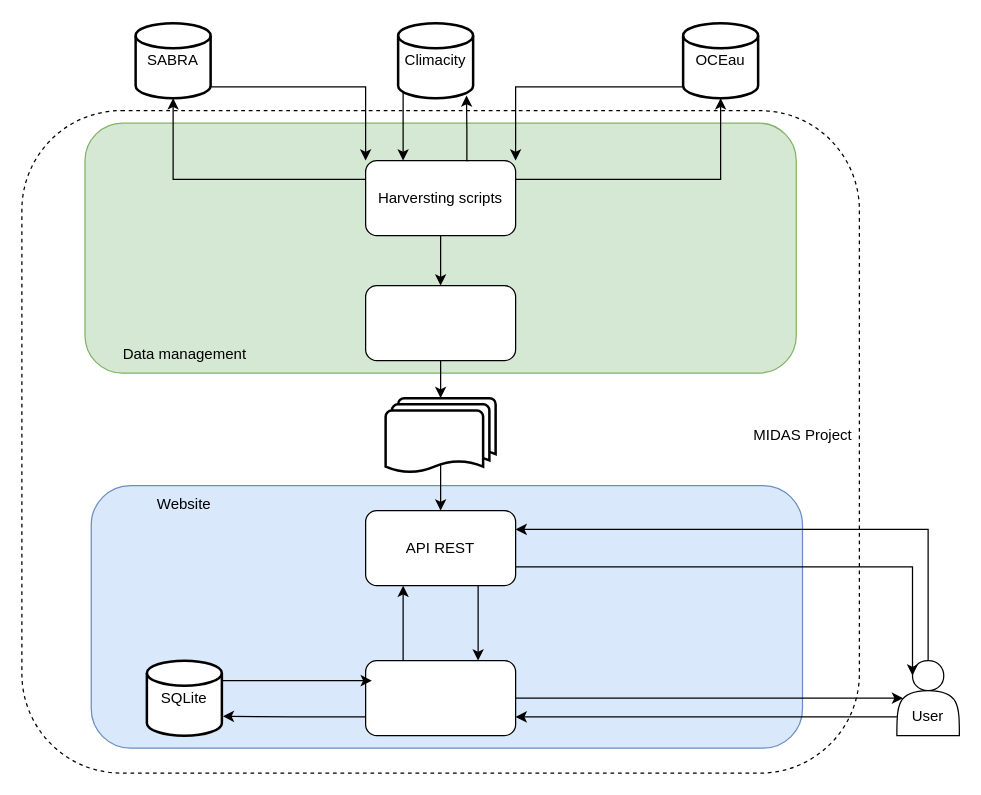
This 981x795 diagram has some shape labels left out. The shapes that lost their labels are listed below. From the top down, each one's centre as x and y in pixels, then its label:
At point (440, 322): "Cleaning and harmonizing data scripts".
At point (440, 435): "Climatic Data".
At point (440, 697): "Dashboard".
